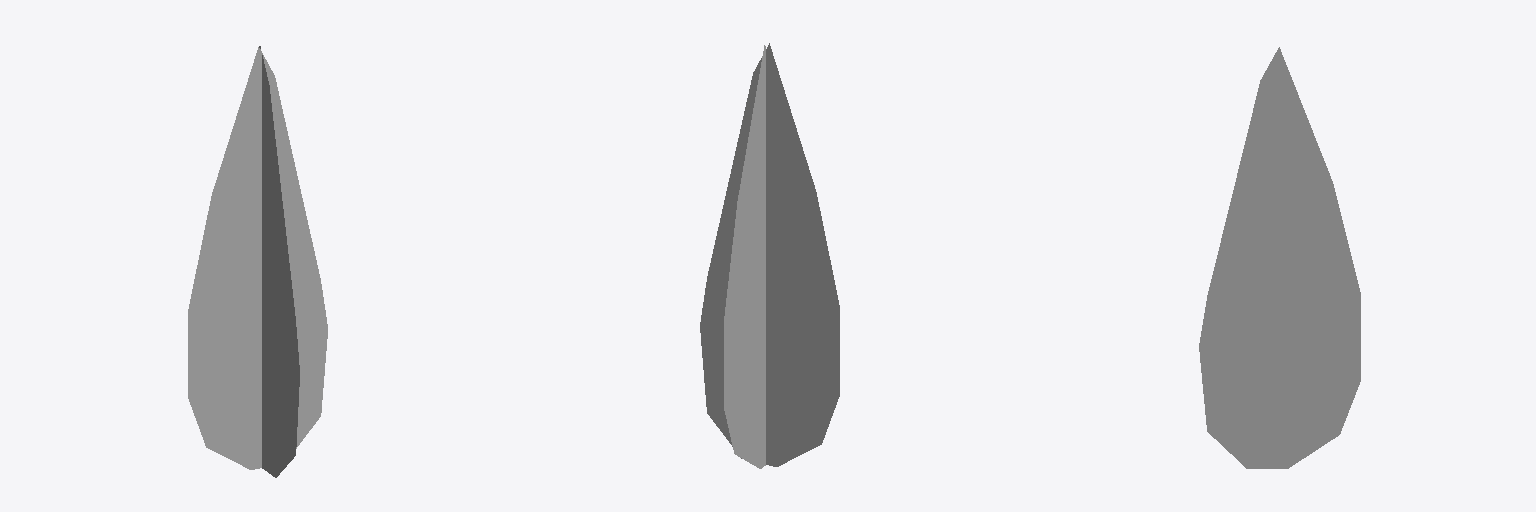
File: flame.obj
The picture shows the model from 3 angles: view 1: azimuth 30°, elevation 25°; view 2: azimuth 150°, elevation 25°; view 3: azimuth 270°, elevation 25°; orthographic projection.
Size of the model in its own units: 0.0189 by 0.0543 by 0.0189.